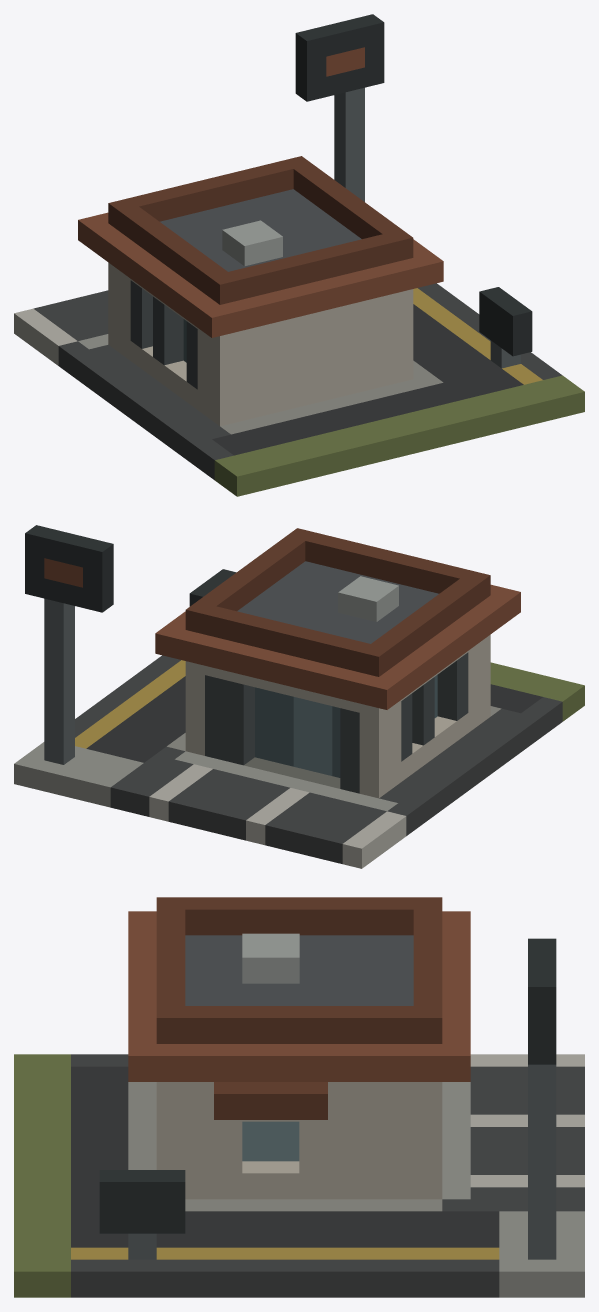
File: Claude_fast_food.glb
3 views of the same model, one above another, from view 1: azimuth 30°, elevation 25°; view 2: azimuth 150°, elevation 25°; view 3: azimuth 270°, elevation 25° (orthographic). The views are drawn at different scales.
Visible parts, largest first — view 1: Claude_fast_food; view 2: Claude_fast_food; view 3: Claude_fast_food.
Part boxes in pixels (x1=…): Claude_fast_food: x1=14, y1=14, x2=584, y2=496; Claude_fast_food: x1=14, y1=525, x2=584, y2=868; Claude_fast_food: x1=14, y1=897, x2=584, y2=1297.
Bounding box in the file's own units: 9 × 6 × 10.
